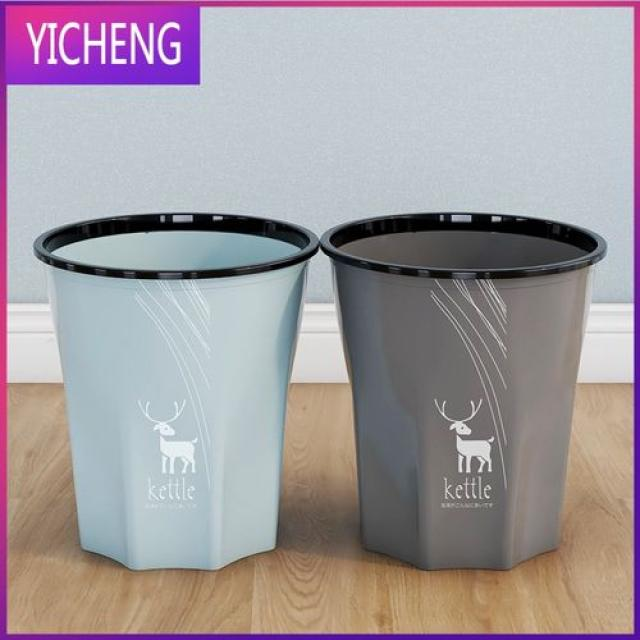dustbin: (29, 205, 320, 578)
